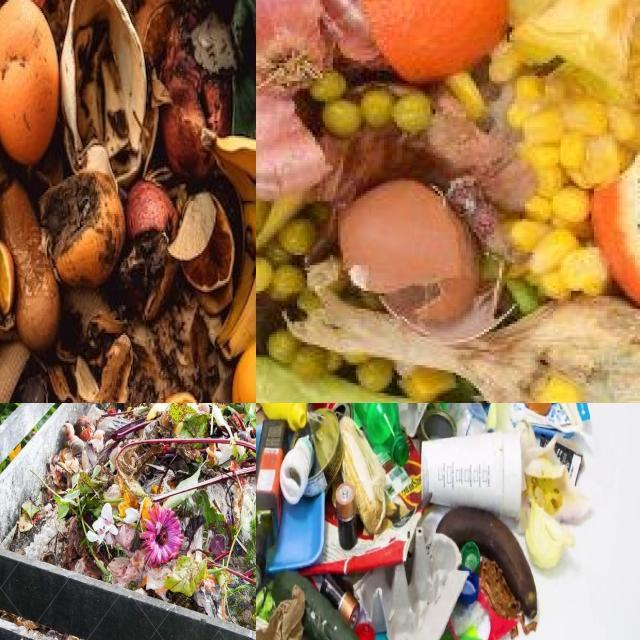Disposable: (421, 432, 522, 517)
E_waste: (279, 435, 314, 504), (322, 575, 360, 628), (335, 483, 357, 550)
Garbage: (256, 0, 640, 403), (256, 403, 591, 640), (0, 403, 256, 627)
Glass_bottle: (256, 421, 287, 590)
Plastic: (266, 494, 325, 573), (458, 541, 480, 605), (524, 403, 552, 415), (256, 423, 261, 462)
Plastic_Container: (260, 403, 307, 430)
Plastic_bottle: (352, 403, 409, 465), (430, 403, 487, 437)
Plastic_wraper: (305, 442, 422, 574), (448, 589, 517, 640)
Tin_box: (304, 407, 343, 497), (421, 412, 457, 439)
